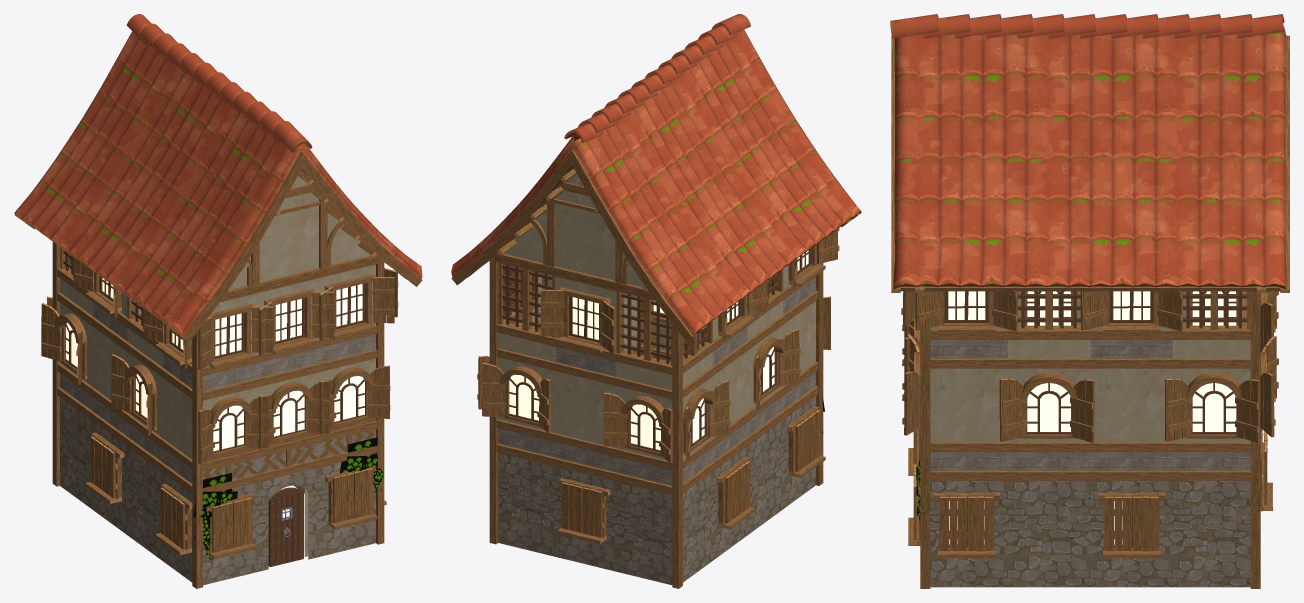
The model's file is kit-hall.glb.
3 renders of one model, left to right at view 1: azimuth 30°, elevation 25°; view 2: azimuth 150°, elevation 25°; view 3: azimuth 270°, elevation 25°, orthographic. The views are drawn at different scales.
Visible parts, largest first — view 1: house; view 2: house; view 3: house.
Part boxes in pixels (x1,y1,x2,y2): house: (14, 14, 422, 588); house: (451, 14, 861, 588); house: (890, 14, 1289, 588).
Size of the model in its own units: 8.25 by 13.89 by 9.68.
Materials: 9 (8 with a texture image).
